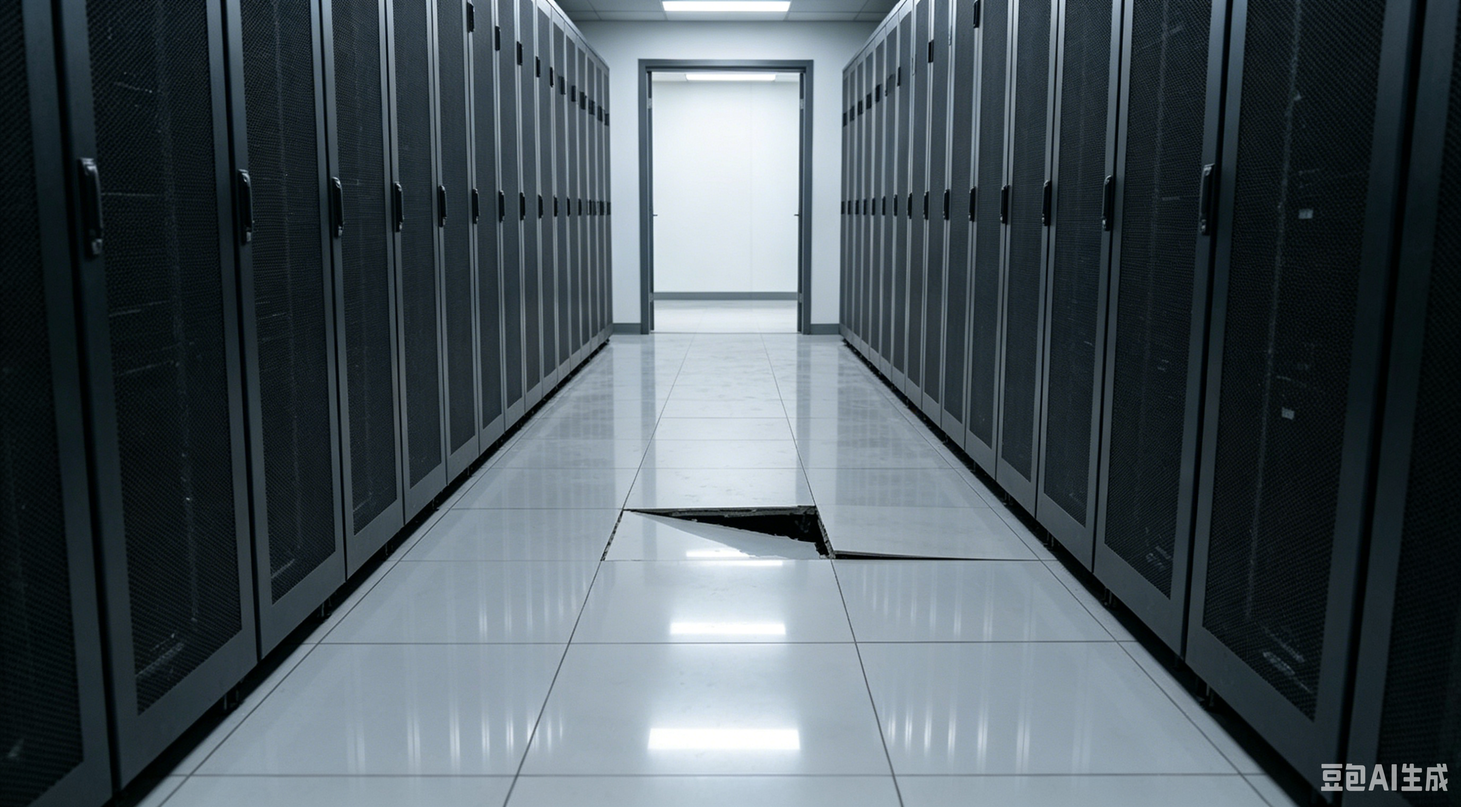floor_defect: (600, 496, 837, 575), (841, 532, 964, 575)
